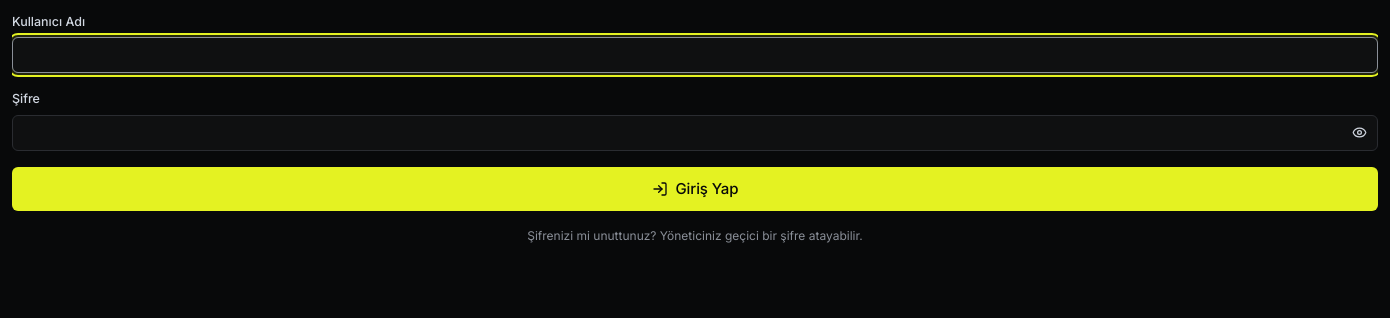
it: LoginForm › shows the backend message on bad credentials and stays on the page
Type "admin" into the field labelled "Kullanıcı Adı". click: (695, 55)
box: [12, 37, 1378, 73]
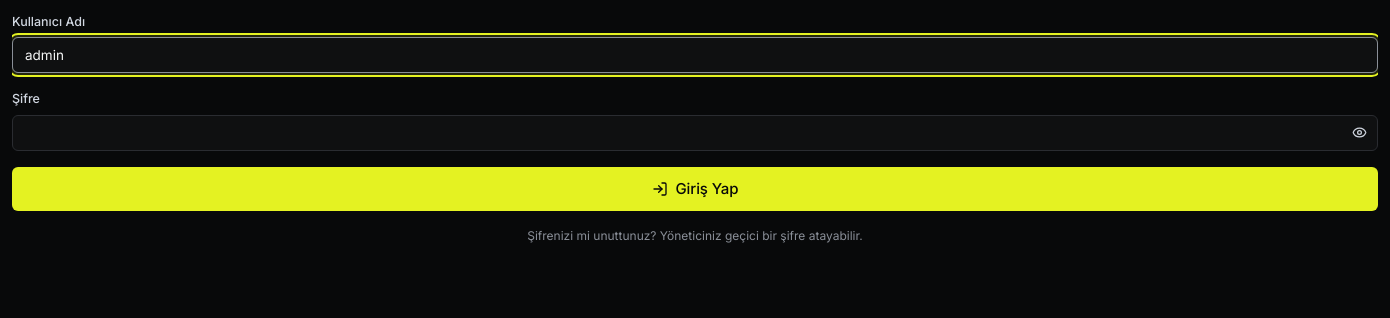
Type "wrong-pass" into the password field labelled "Şifre". click: (695, 133)
box: [12, 115, 1378, 151]
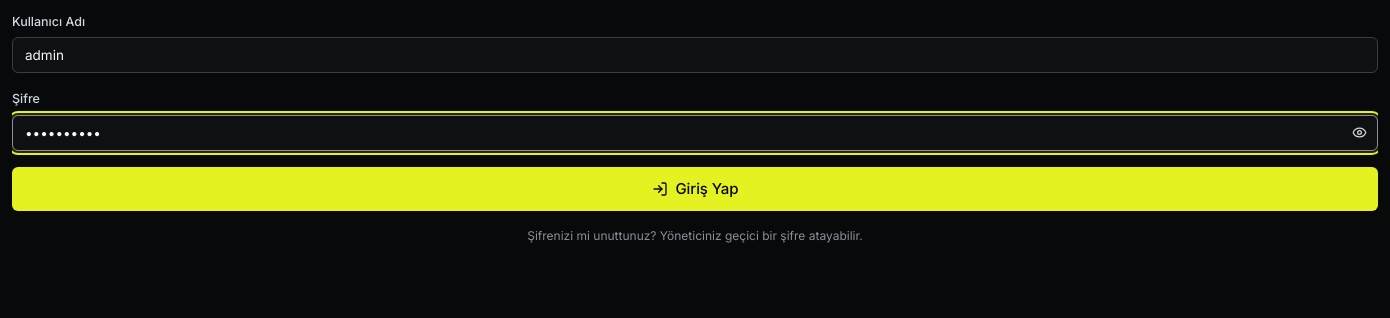
Click the button "Giriş Yap". click: (695, 189)
box: [12, 167, 1378, 211]
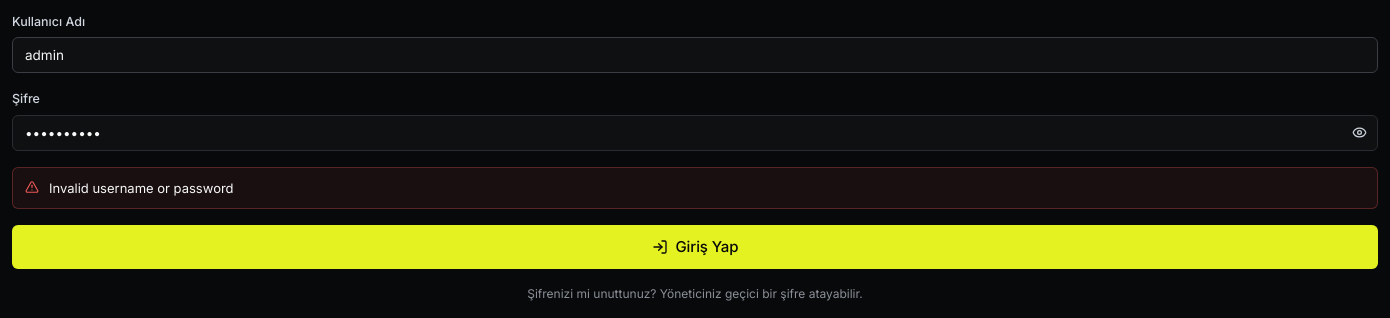
Expected: the text "Invalid username or password" is shown, [49, 178, 234, 198]
